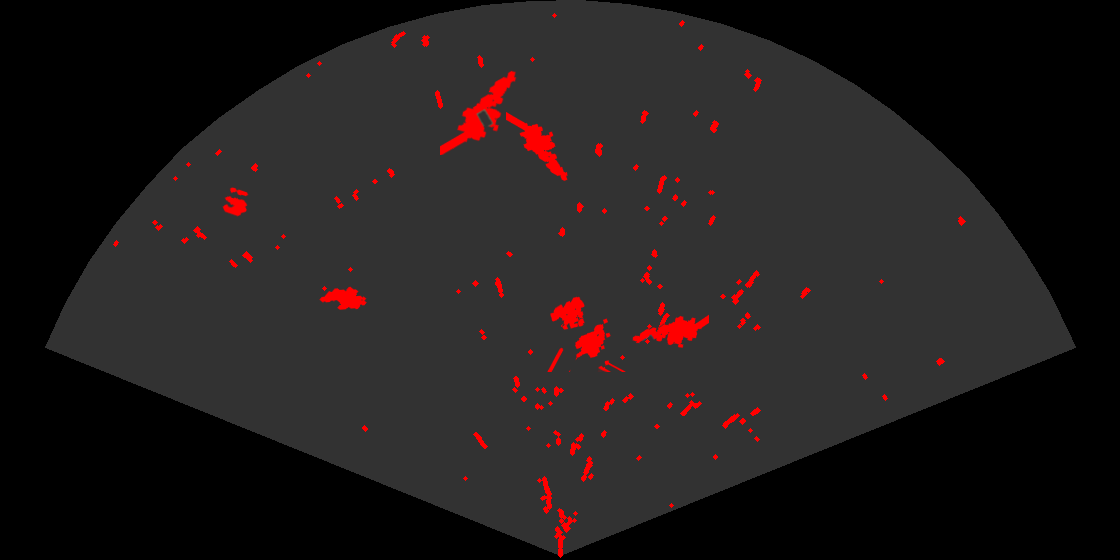AUV: (318, 285, 368, 311)
ball: (221, 186, 250, 218)
cage: (546, 295, 627, 372)
frogman: (440, 69, 518, 155), (506, 112, 569, 183), (631, 313, 709, 349)
